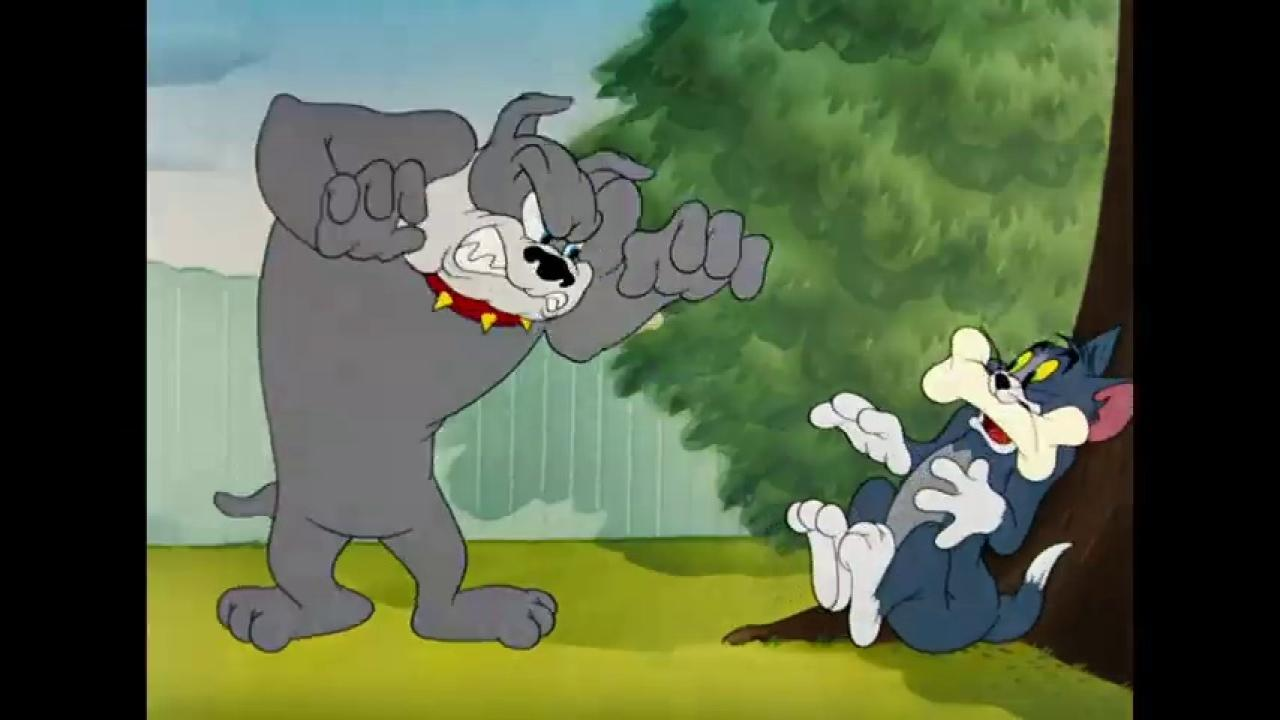Tom: (784, 317, 1134, 661)
